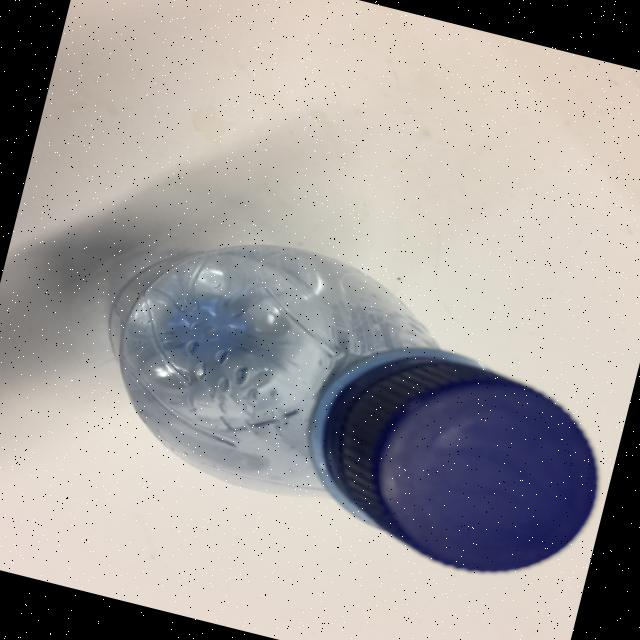plastic: (69, 205, 638, 598)
